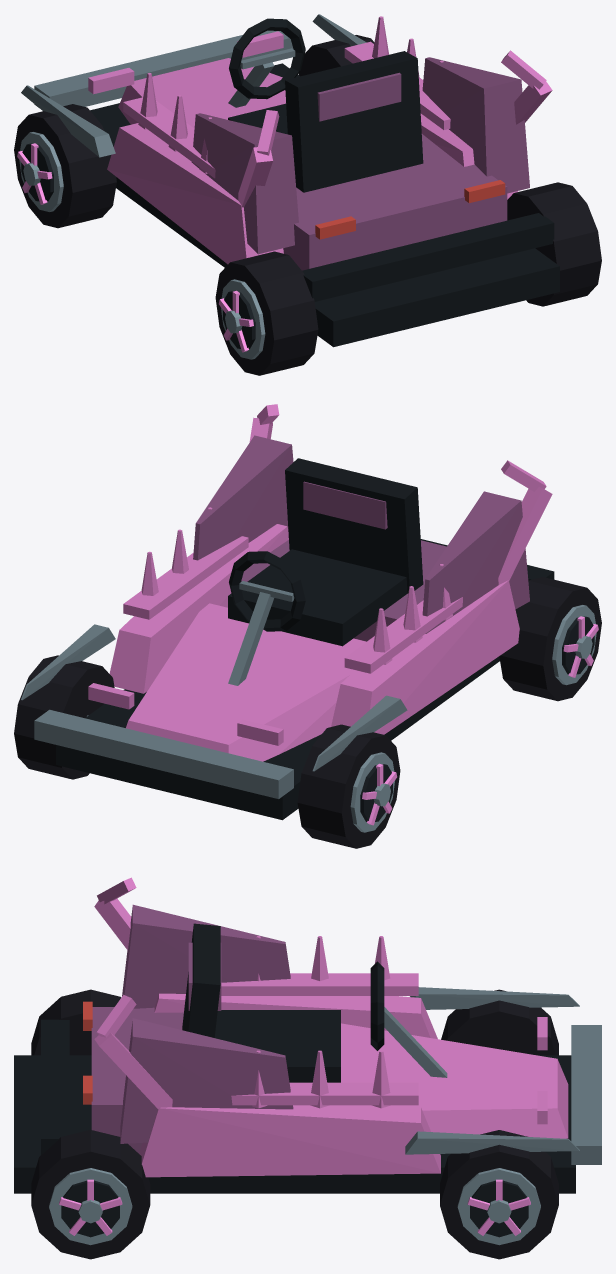
File: kart.glb
The picture shows the model from 3 angles, top to bottom: view 1: azimuth 30°, elevation 25°; view 2: azimuth 150°, elevation 25°; view 3: azimuth 270°, elevation 25°; orthographic projection.
Parts seen in each view (by area): view 1: chassis, wheel-rear-left, wheel-front-left, wheel-rear-right, wheel-front-right; view 2: chassis, wheel-front-left, wheel-rear-left, wheel-front-right; view 3: chassis, wheel-rear-right, wheel-front-right, wheel-front-left, wheel-rear-left.
Boxes of the visible parts, x1,y1,x2,y2 form: chassis: (21, 14, 559, 347); wheel-rear-left: (215, 251, 318, 375); wheel-front-left: (14, 104, 116, 228); wheel-rear-right: (507, 182, 601, 306); wheel-front-right: (298, 35, 374, 76); chassis: (21, 404, 554, 820); wheel-front-left: (297, 724, 400, 848); wheel-rear-left: (499, 577, 601, 701); wheel-front-right: (14, 655, 114, 779); chassis: (14, 877, 601, 1193); wheel-rear-right: (31, 1130, 150, 1259); wheel-front-right: (440, 1130, 558, 1259); wheel-front-left: (441, 989, 558, 1055); wheel-rear-left: (31, 989, 121, 1055).
Size of the model in its own units: 2.17 by 1.38 by 3.07.
